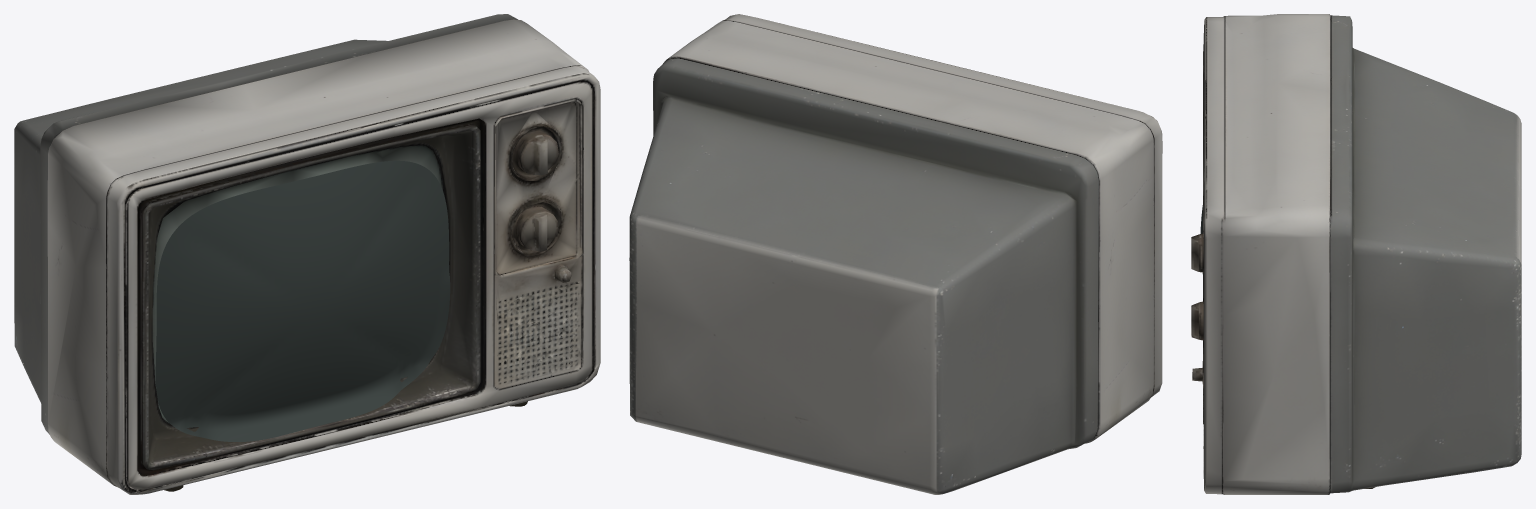
File: tv_crt_d.glb
The picture shows the model from 3 angles, left to right: view 1: azimuth 30°, elevation 25°; view 2: azimuth 150°, elevation 25°; view 3: azimuth 270°, elevation 25°; orthographic projection. The views are drawn at different scales.
Parts seen in each view (by area): view 1: tv_crt_d, tv_screen; view 2: tv_crt_d; view 3: tv_crt_d.
Part boxes in pixels (left/top/right/bottom): tv_crt_d: left=14, top=14, right=600, bottom=494; tv_screen: left=155, top=160, right=450, bottom=441; tv_crt_d: left=629, top=14, right=1162, bottom=494; tv_crt_d: left=1191, top=14, right=1521, bottom=494.
Bounding box in the file's own units: 0.4999 × 0.3287 × 0.3296.
2 materials, 1 textured.
